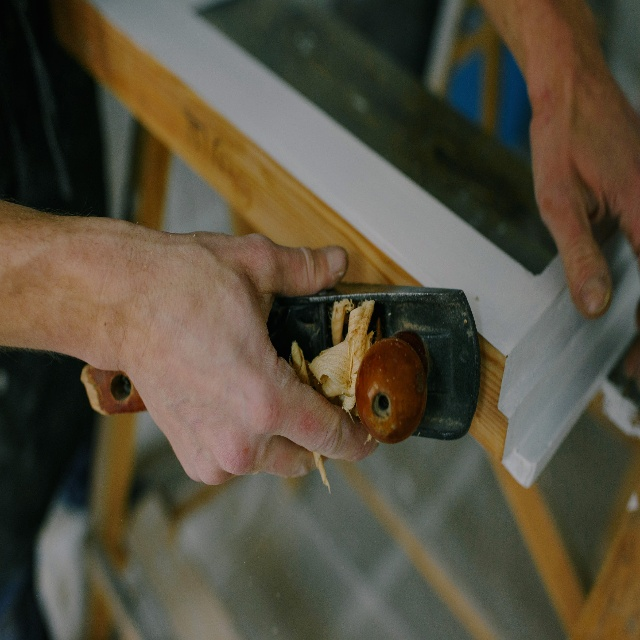Sin_guantes: (133, 226, 379, 494), (521, 30, 640, 319)
